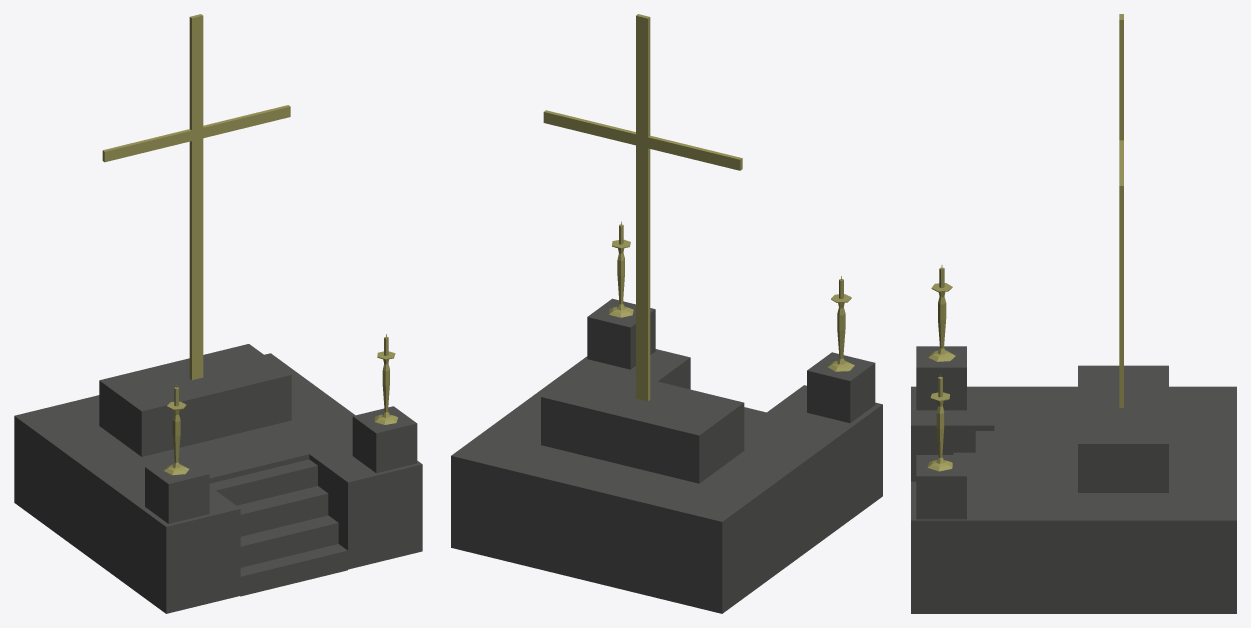
The model's file is altar.fbx.
3 views of the same model, side by side, from view 1: azimuth 30°, elevation 25°; view 2: azimuth 150°, elevation 25°; view 3: azimuth 270°, elevation 25° (orthographic). The views are drawn at different scales.
Parts seen in each view (by area): view 1: altar; view 2: altar; view 3: altar.
Boxes of the visible parts, x1,y1,x2,y2 form: altar: (14,14,422,613); altar: (451,14,882,613); altar: (911,14,1236,613).
Size of the model in its own units: 2.38 by 4.4 by 2.45.
